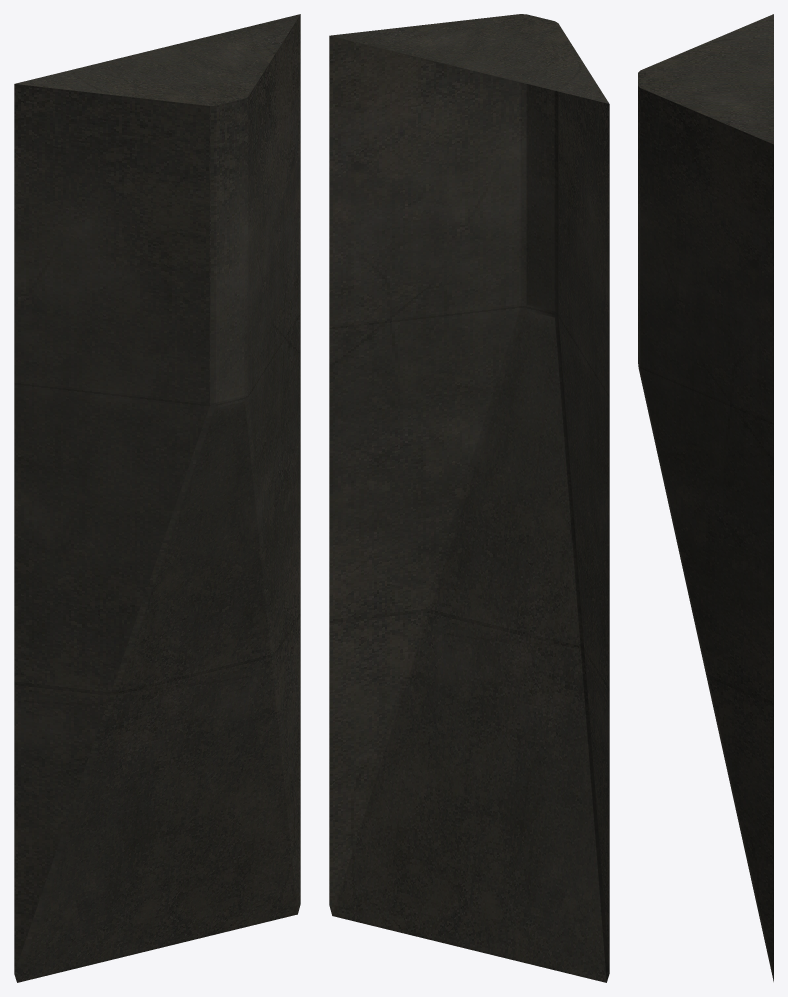
The model's file is wall_element_2_bottom.glb.
3 renders of one model, left to right at view 1: azimuth 30°, elevation 25°; view 2: azimuth 150°, elevation 25°; view 3: azimuth 270°, elevation 25°, orthographic. The views are drawn at different scales.
Parts seen in each view (by area): view 1: wall_element_2_bottom; view 2: wall_element_2_bottom; view 3: wall_element_2_bottom.
Boxes of the visible parts, x1,y1,x2,y2 form: wall_element_2_bottom: (14,14,300,982); wall_element_2_bottom: (329,14,609,982); wall_element_2_bottom: (638,14,773,981).
Bounding box in the file's own units: 1 × 3 × 0.44.
1 material, 1 textured.
